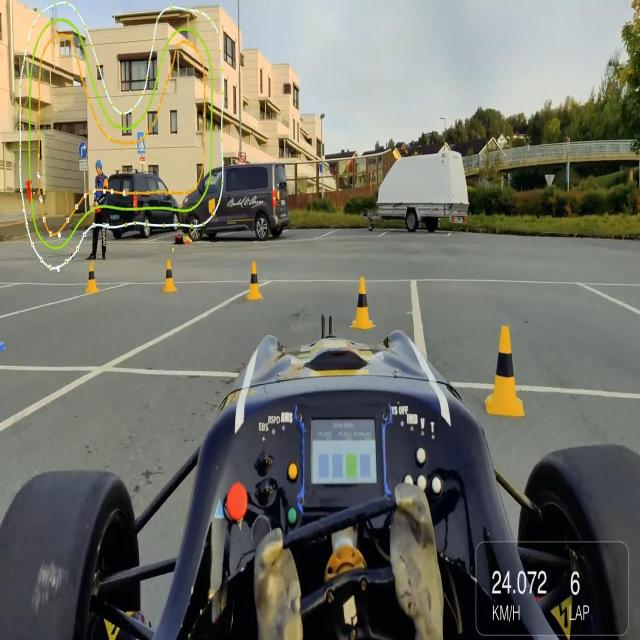yellow_cone: (484, 318, 526, 422), (349, 272, 377, 334), (245, 260, 265, 303), (162, 257, 178, 296), (84, 258, 99, 296)
